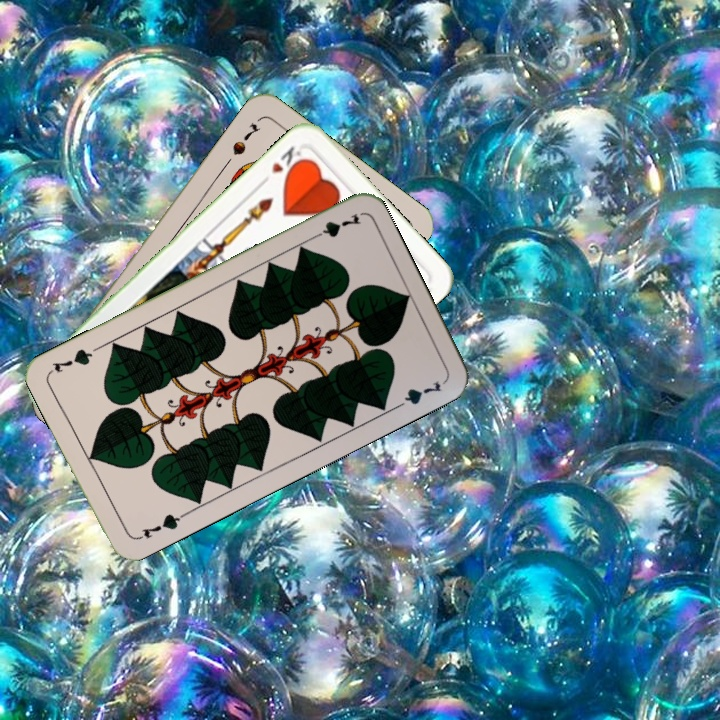G7: (306, 208, 363, 243), (133, 509, 188, 543)
HK: (256, 141, 307, 188)
S7: (228, 119, 264, 158)
